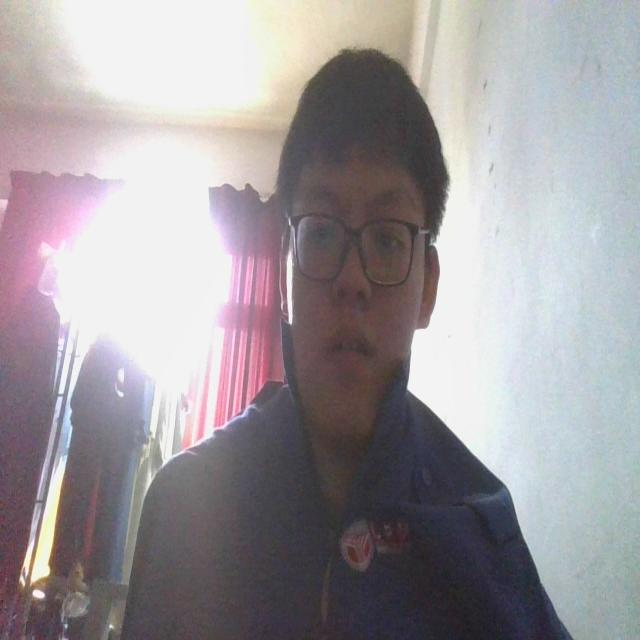person_without_labcoat: (122, 50, 570, 639)
